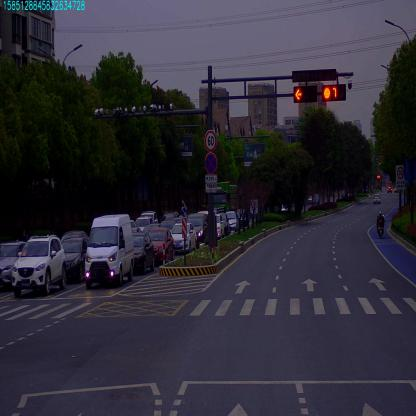traffic-light: (323, 89, 349, 103), (294, 87, 318, 102)
